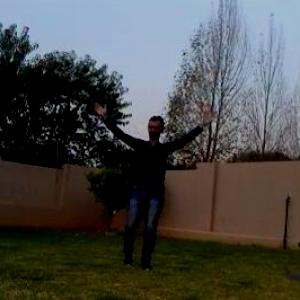takeoff: (89, 106, 211, 268)
